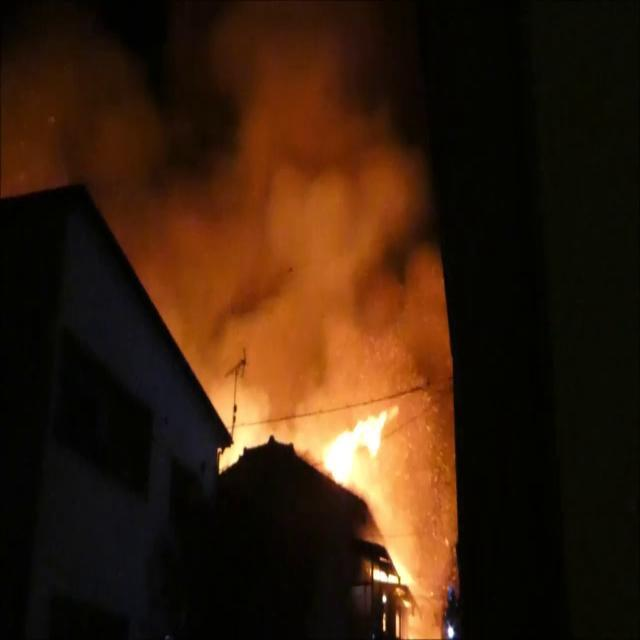Fire: (318, 388, 404, 499)
Smoke: (1, 2, 468, 400)
